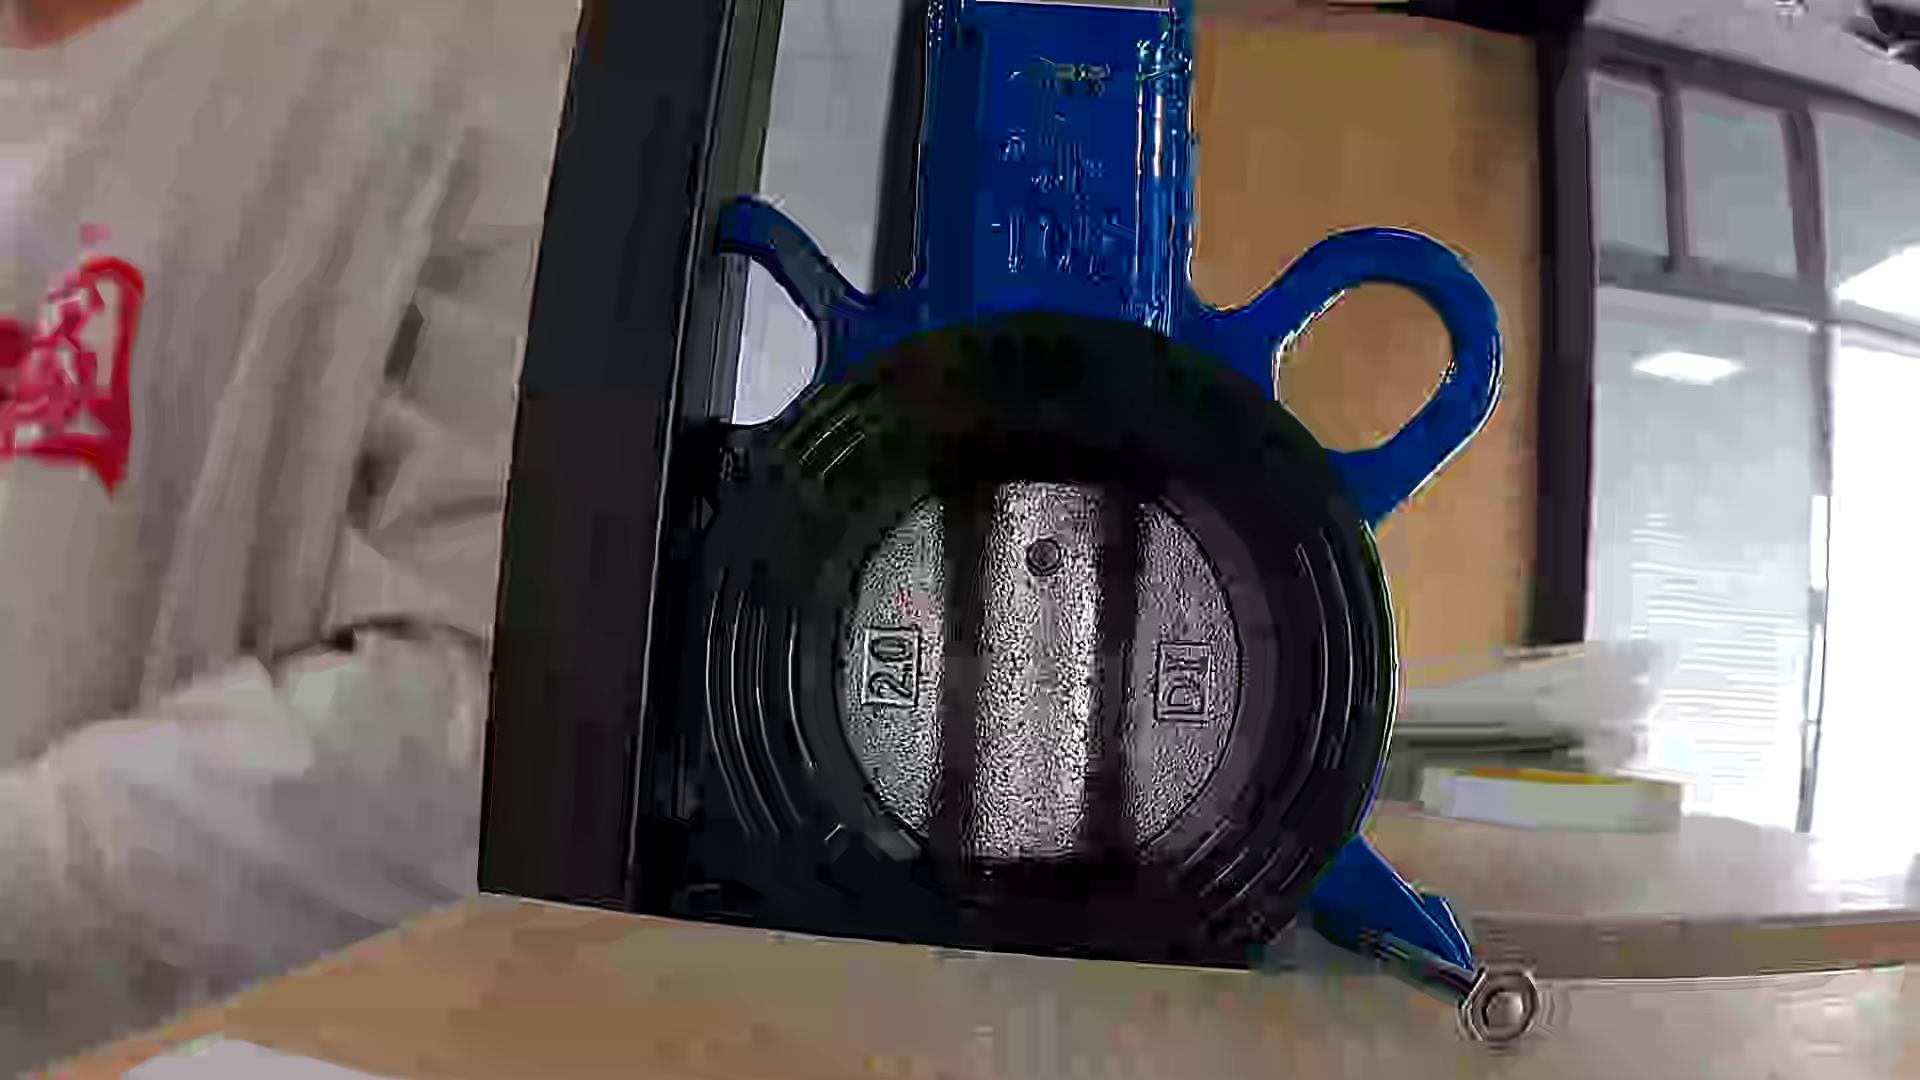valve: (836, 480, 1240, 858)
